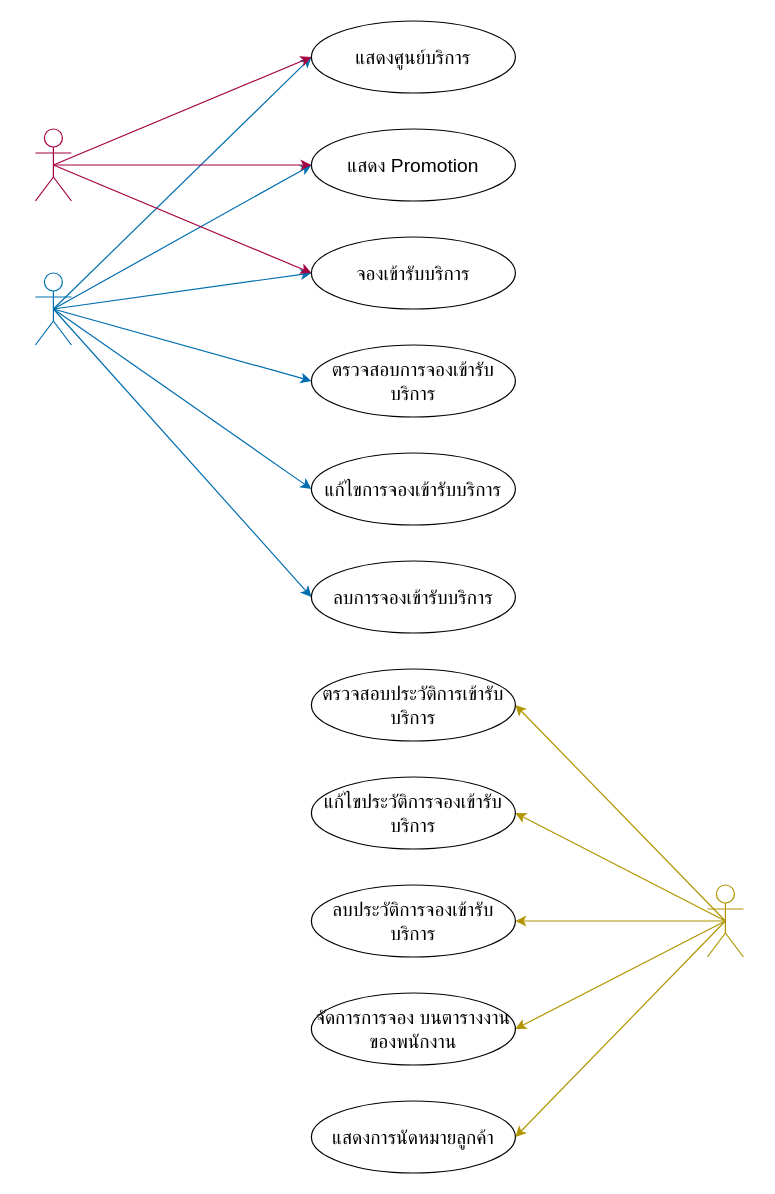
Image size: 775x1194. Some labels were removed from this diagram. Each missing label, with the box of its shape:
ผู้เยี่ยมชม: (34, 128, 71, 201)
พนักงาน: (706, 884, 743, 957)
ลูกค้า: (34, 272, 71, 345)
